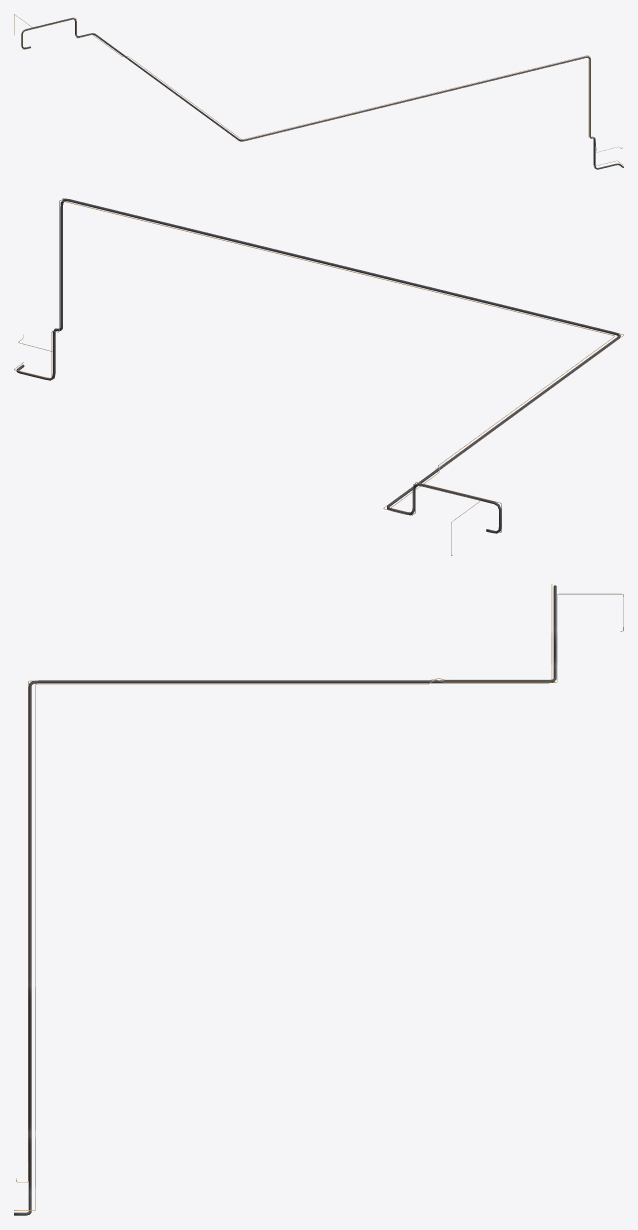
Rendered from slab_pipes_hvac__hvac-heatpump_attic_rd18.glb.
The picture shows the model from 3 angles, top to bottom: view 1: azimuth 30°, elevation 25°; view 2: azimuth 150°, elevation 25°; view 3: azimuth 270°, elevation 25°; orthographic projection. The views are drawn at different scales.
Visible parts, largest first — view 1: pipe_hvac_lineset_suction_hp_rd18ay36, pipe_hvac_lineset_liquid_hp_rd18ay36, pipe_hvac_lineset_tstat_cable_hp_rd18ay36; view 2: pipe_hvac_lineset_suction_hp_rd18ay36, pipe_hvac_lineset_liquid_hp_rd18ay36, pipe_hvac_lineset_tstat_cable_hp_rd18ay36; view 3: pipe_hvac_lineset_suction_hp_rd18ay36, pipe_hvac_lineset_liquid_hp_rd18ay36, pipe_hvac_lineset_tstat_cable_hp_rd18ay36.
Boxes of the visible parts, bbox=[...] form: pipe_hvac_lineset_suction_hp_rd18ay36: bbox=[21, 18, 623, 169]; pipe_hvac_lineset_liquid_hp_rd18ay36: bbox=[22, 18, 622, 166]; pipe_hvac_lineset_tstat_cable_hp_rd18ay36: bbox=[14, 14, 622, 152]; pipe_hvac_lineset_suction_hp_rd18ay36: bbox=[16, 199, 620, 533]; pipe_hvac_lineset_liquid_hp_rd18ay36: bbox=[14, 200, 614, 532]; pipe_hvac_lineset_tstat_cable_hp_rd18ay36: bbox=[18, 198, 623, 555]; pipe_hvac_lineset_suction_hp_rd18ay36: bbox=[14, 585, 556, 1215]; pipe_hvac_lineset_liquid_hp_rd18ay36: bbox=[14, 584, 552, 1210]; pipe_hvac_lineset_tstat_cable_hp_rd18ay36: bbox=[16, 593, 623, 1182].
Size of the model in its own units: 13.22 by 3.81 by 8.7.
